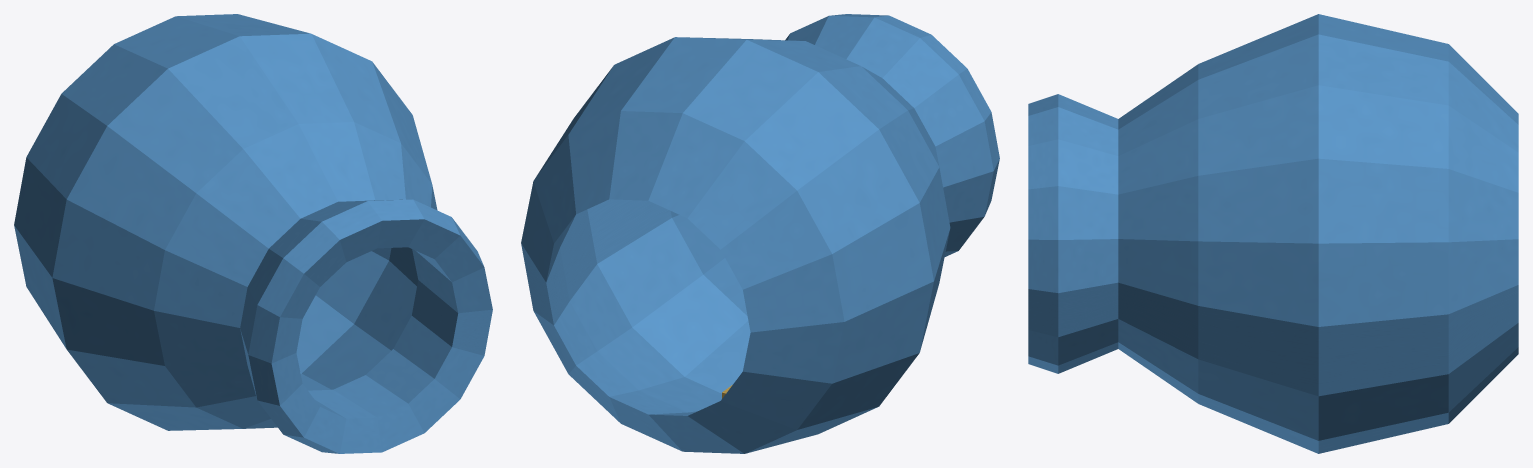
Rendered from vase_blue.glb.
3 renders of one model, left to right at view 1: azimuth 30°, elevation 25°; view 2: azimuth 150°, elevation 25°; view 3: azimuth 270°, elevation 25°, orthographic.
Visible parts, largest first — view 1: vase_blue_ceramic_blue; view 2: vase_blue_ceramic_blue; view 3: vase_blue_ceramic_blue.
Boxes of the visible parts, x1,y1,x2,y2 form: vase_blue_ceramic_blue: [14, 14, 492, 453]; vase_blue_ceramic_blue: [521, 14, 999, 453]; vase_blue_ceramic_blue: [1028, 14, 1518, 453].
Bounding box in the file's own units: 0.44 × 0.44 × 0.49.
2 materials, 2 textured.
